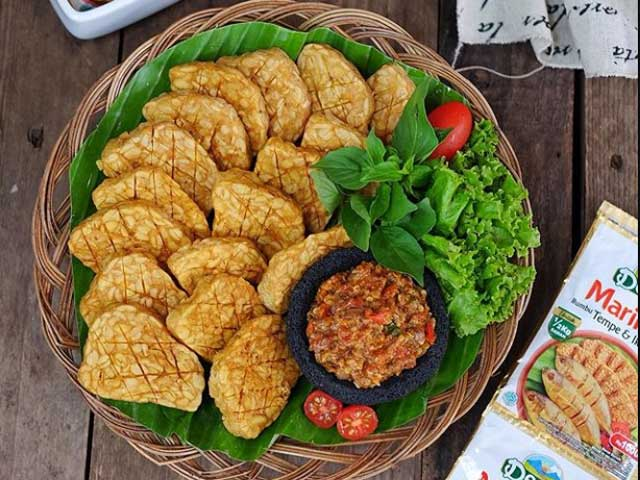Tempe: (70, 283, 160, 425), (206, 322, 309, 442), (262, 223, 357, 304), (68, 195, 172, 266), (165, 280, 260, 344), (204, 186, 295, 243)
